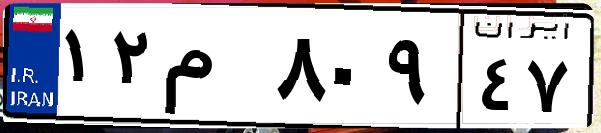0: (330, 28, 385, 110)
1: (57, 26, 110, 100)
2: (110, 28, 158, 98)
4: (475, 38, 525, 113)
7: (525, 38, 570, 115)
8: (270, 28, 330, 110)
9: (385, 28, 445, 110)
م: (158, 20, 270, 120)
